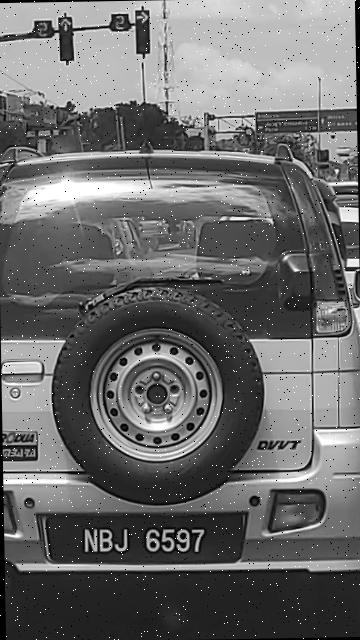License_Plate: (47, 513, 244, 567)
car: (6, 143, 360, 589)
